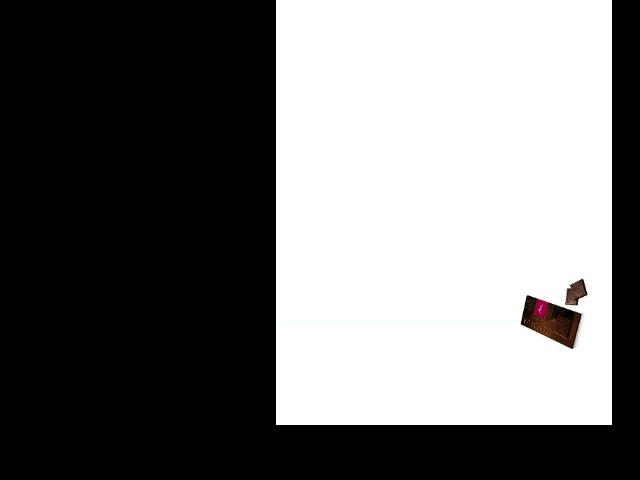chocolate: (519, 294, 582, 349)
